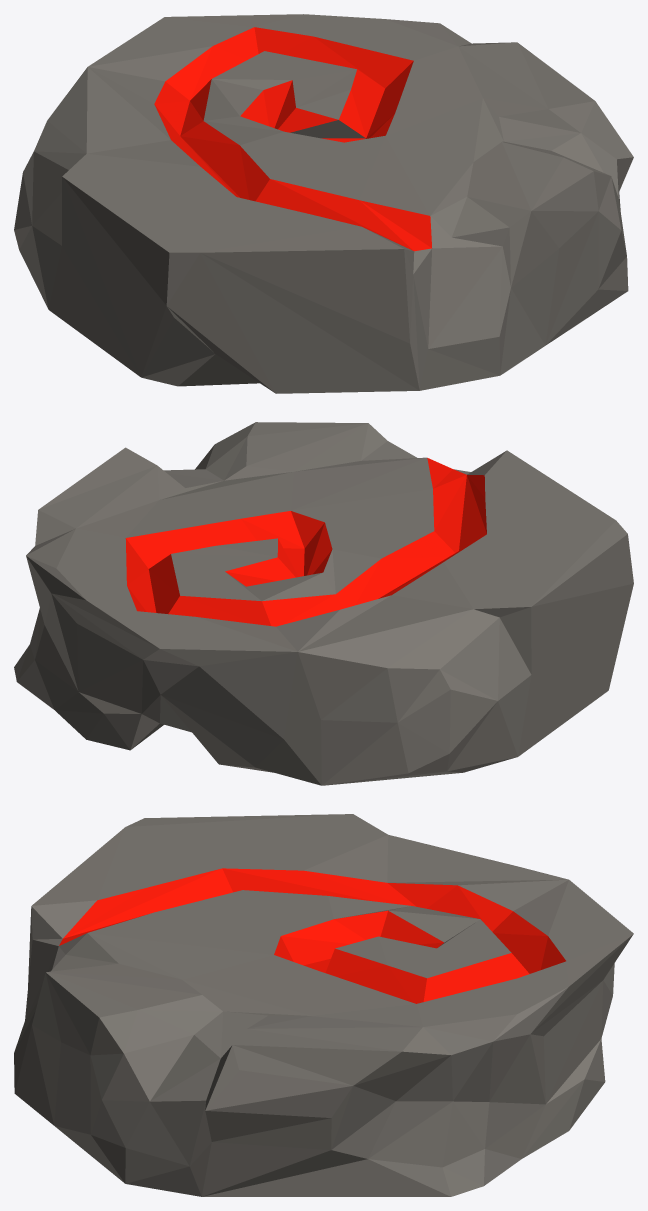
Rendered from SM_Env_Rune_Rounded_01.fbx.
3 renders of one model, top to bottom at view 1: azimuth 30°, elevation 25°; view 2: azimuth 150°, elevation 25°; view 3: azimuth 270°, elevation 25°, orthographic. The views are drawn at different scales.
Parts seen in each view (by area): view 1: SM_Env_Rune_Rounded_01; view 2: SM_Env_Rune_Rounded_01; view 3: SM_Env_Rune_Rounded_01.
Boxes of the visible parts, box(x1,y1,x2,y2) form: SM_Env_Rune_Rounded_01: box(14, 14, 633, 393); SM_Env_Rune_Rounded_01: box(14, 422, 633, 785); SM_Env_Rune_Rounded_01: box(14, 814, 633, 1196).
Size of the model in its own units: 0.9976 by 0.2809 by 1.06.
